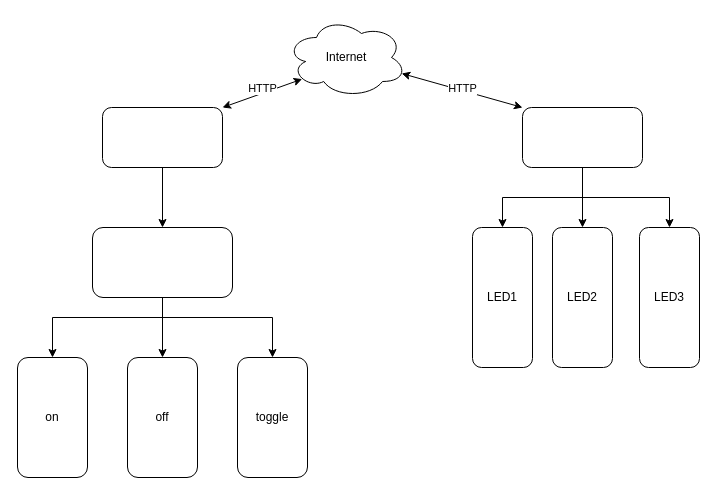
The diagram is 717 pixels wide and 495 high, and some of its shapes have lost their labels. The centre of each missing label's shape, as x and y in pixels:
"Controller" belongs at point 162,262.
"QT" belongs at point 162,137.
"STM32 NUCLEO-F746ZG" belongs at point 582,137.
